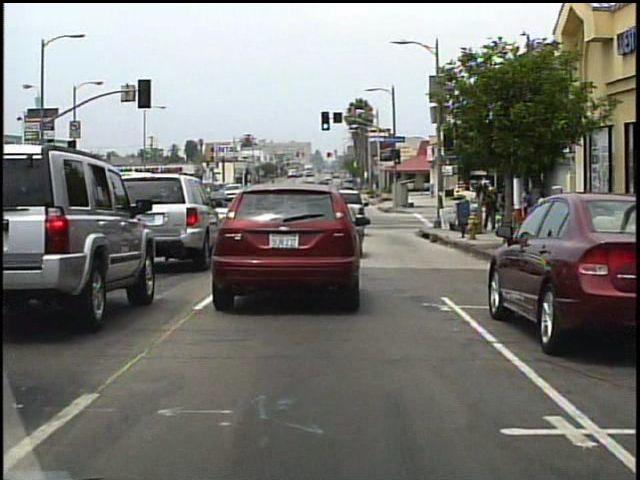person: (482, 185, 499, 232), (520, 185, 536, 233), (498, 188, 509, 227)
